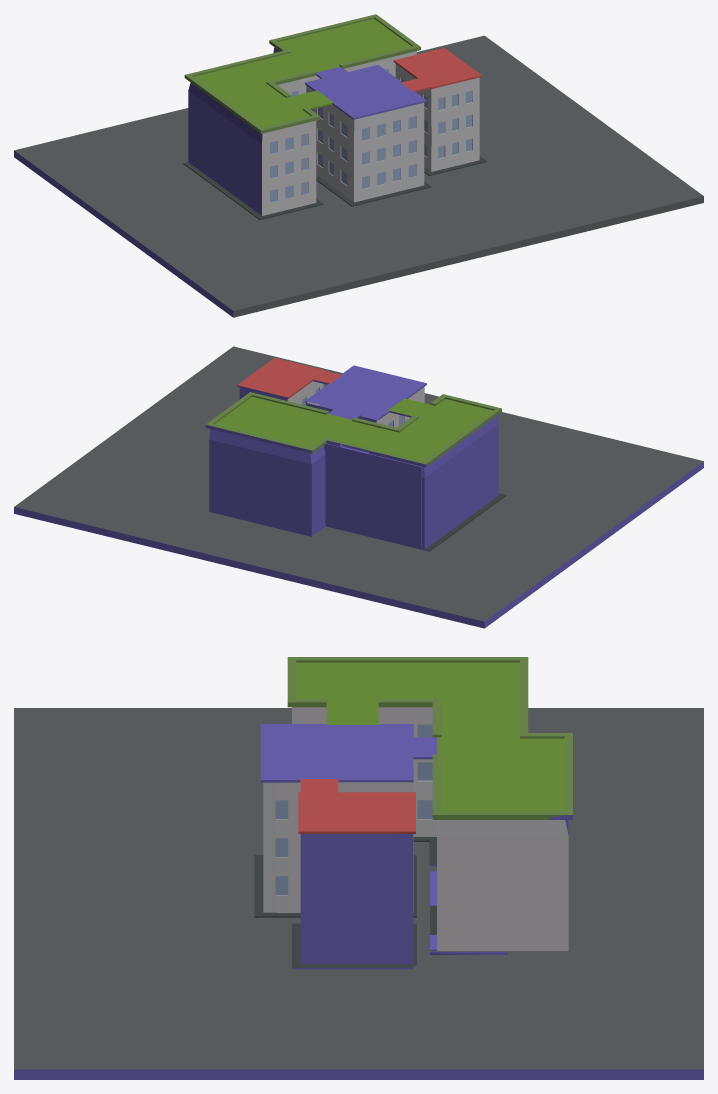
The model's file is scena_1.fbx.
3 renders of one model, top to bottom at view 1: azimuth 30°, elevation 25°; view 2: azimuth 150°, elevation 25°; view 3: azimuth 270°, elevation 25°, orthographic. The views are drawn at different scales.
Parts seen in each view (by area): view 1: Cube.001; view 2: Cube.001; view 3: Cube.001.
Part boxes in pixels (left/top/right/bottom): Cube.001: left=14, top=14, right=703, bottom=317; Cube.001: left=14, top=346, right=703, bottom=628; Cube.001: left=14, top=657, right=703, bottom=1079.
Bounding box in the file's own units: 1473 × 285 × 1190.
